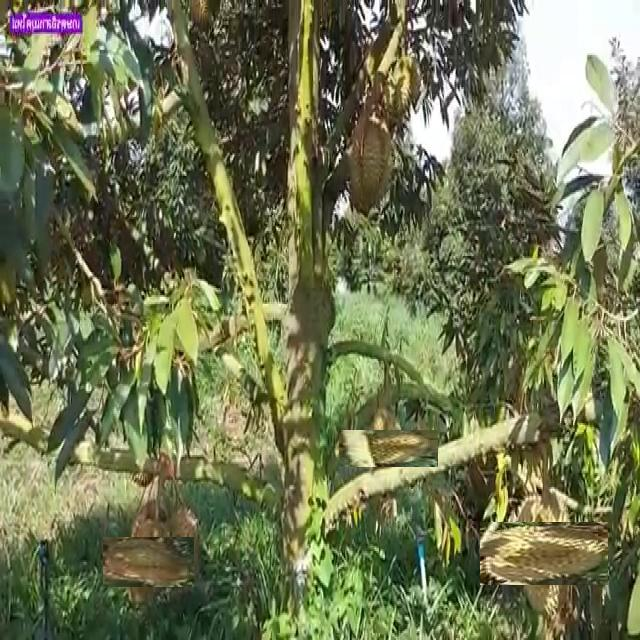durian: (496, 506, 593, 602), (346, 115, 396, 218), (114, 526, 184, 598), (354, 414, 422, 483), (374, 51, 424, 133), (161, 503, 203, 588)
